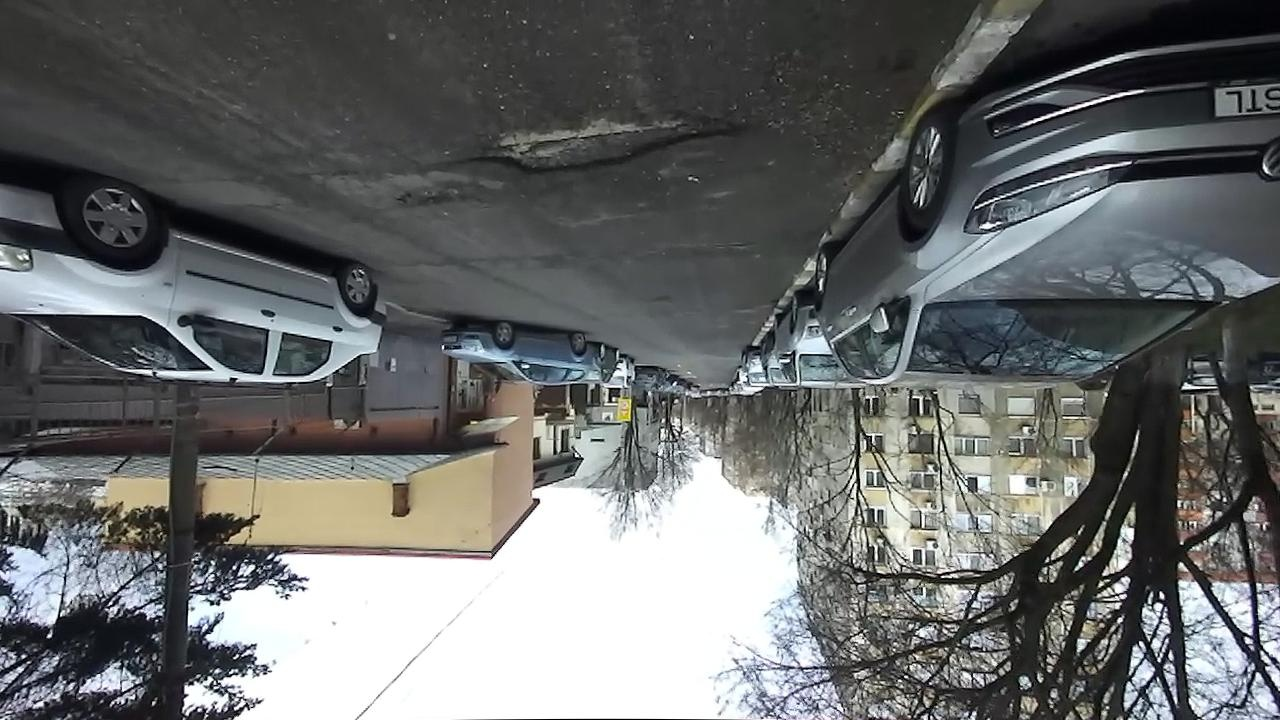pothole: (460, 107, 752, 177), (389, 182, 481, 213)
